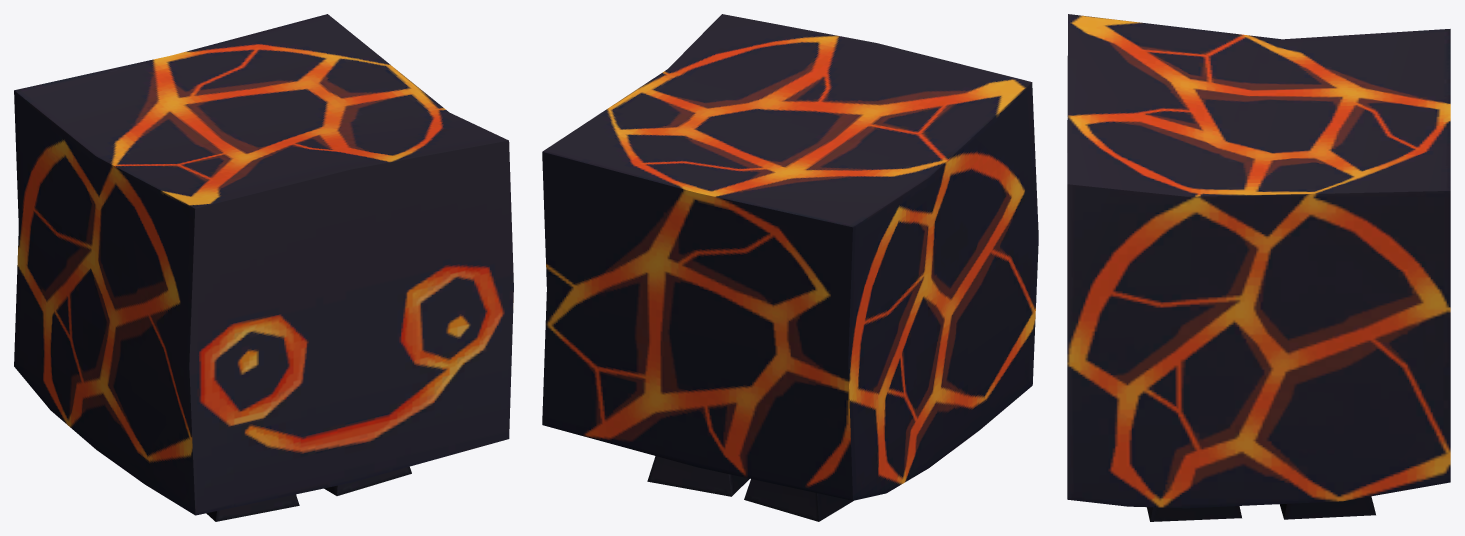
File: pets_80.fbx
3 renders of one model, left to right at view 1: azimuth 30°, elevation 25°; view 2: azimuth 150°, elevation 25°; view 3: azimuth 270°, elevation 25°, orthographic. The views are drawn at different scales.
Parts seen in each view (by area): view 1: Pet.092; view 2: Pet.092; view 3: Pet.092.
Boxes of the visible parts, x1,y1,x2,y2 form: Pet.092: [14, 14, 513, 521]; Pet.092: [542, 14, 1038, 521]; Pet.092: [1067, 14, 1450, 521].
Size of the model in its own units: 0.382 by 0.3698 by 0.4013.
